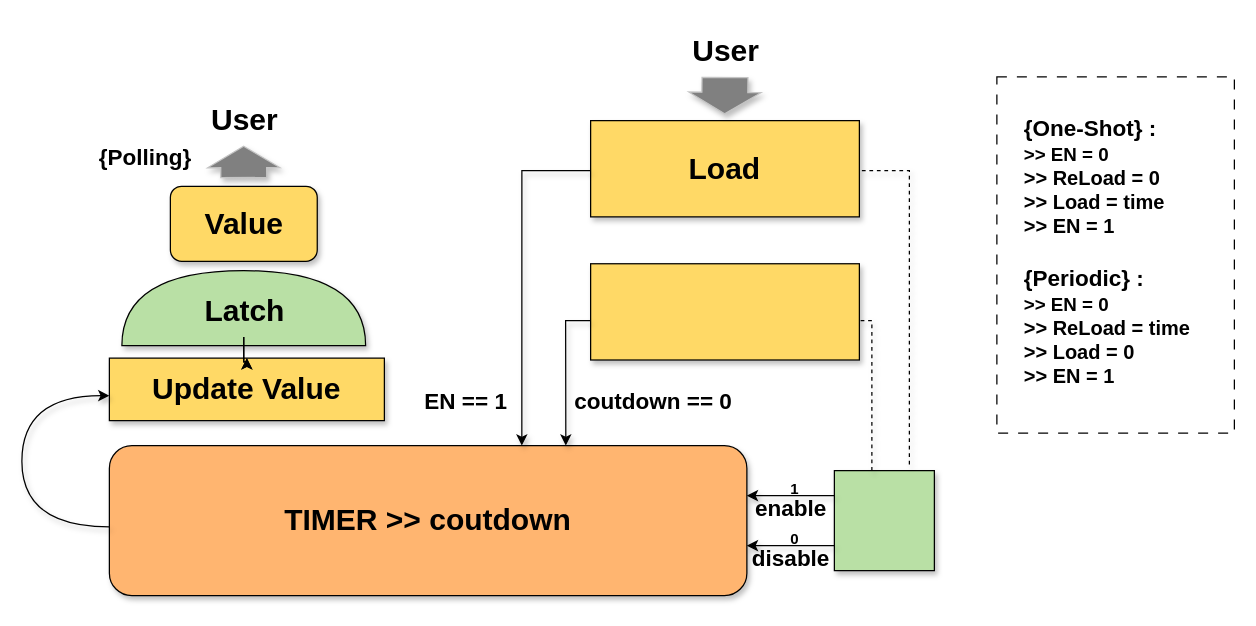
Image size: 1256x626. Some labels were removed from this diagram. The shapes that lost their labels are listed below. From the top down, each one's centre as x and y in pixels, then its label:
At (725,313): "ReLoad".
At (885,521): "EN".
